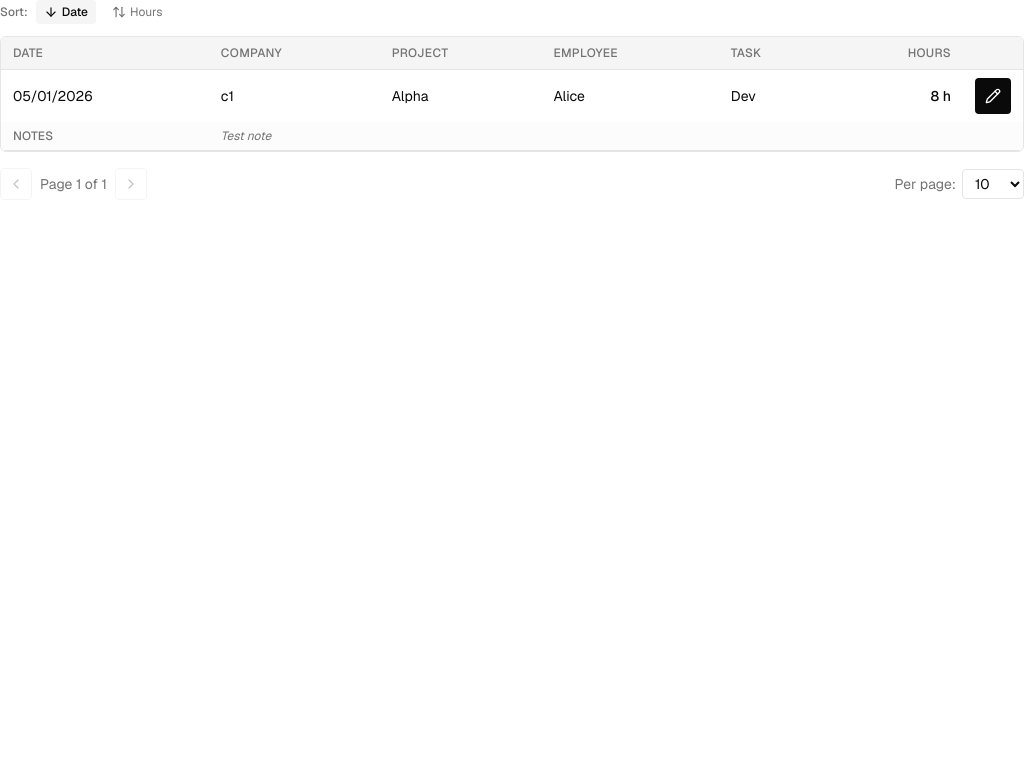
HistoryTable › opens edit dialog when edit button is clicked
Click the button with test id "edit-btn": coordinates (993, 96) [975,78,1011,114]
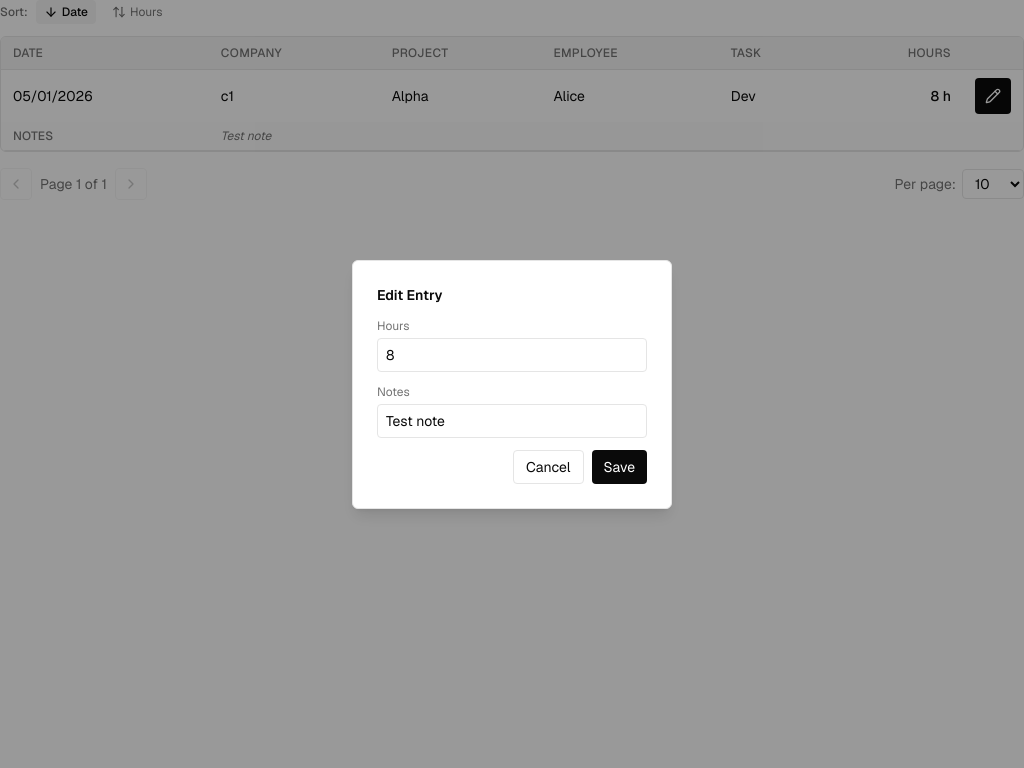
Check: the element with test id "edit-dialog" is shown
